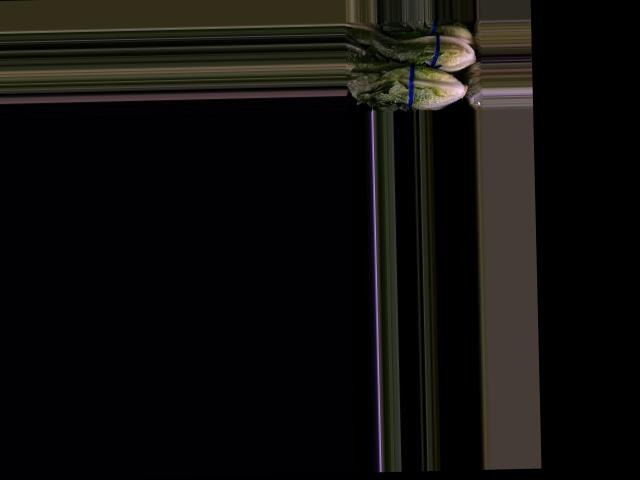lettuce: (368, 25, 477, 73)
